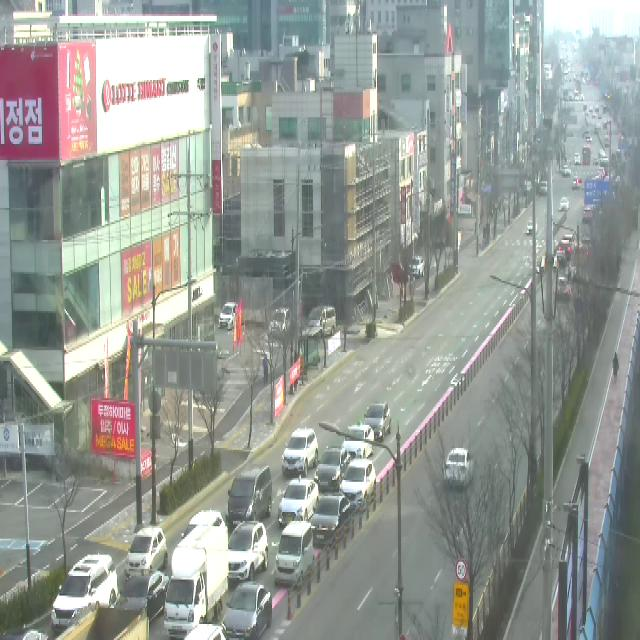Bus: (582, 144, 591, 165)
Car: (50, 555, 118, 631), (221, 581, 272, 640), (109, 572, 169, 622), (228, 466, 272, 528), (274, 521, 314, 588), (228, 521, 268, 581), (124, 528, 168, 581), (310, 493, 350, 544), (278, 475, 318, 526), (340, 459, 376, 509), (282, 429, 318, 476), (314, 447, 350, 492), (181, 511, 227, 541), (342, 419, 374, 458), (444, 448, 474, 488), (364, 402, 391, 442), (308, 306, 336, 340), (268, 307, 292, 338), (184, 624, 229, 640), (0, 627, 49, 640), (218, 302, 236, 330), (555, 277, 570, 302), (409, 256, 425, 278), (557, 240, 571, 259), (562, 234, 574, 252), (556, 248, 567, 266), (583, 206, 593, 222), (527, 220, 537, 234), (560, 197, 569, 211), (562, 165, 571, 177), (540, 181, 547, 195), (572, 178, 580, 190), (574, 153, 580, 165)
Truck: (164, 526, 228, 640), (54, 601, 149, 640)
